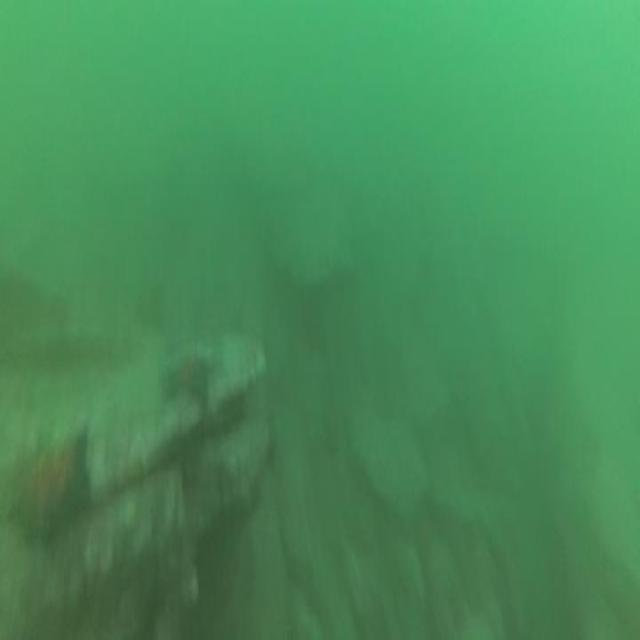starfish: (0, 424, 98, 553), (159, 351, 219, 414)
